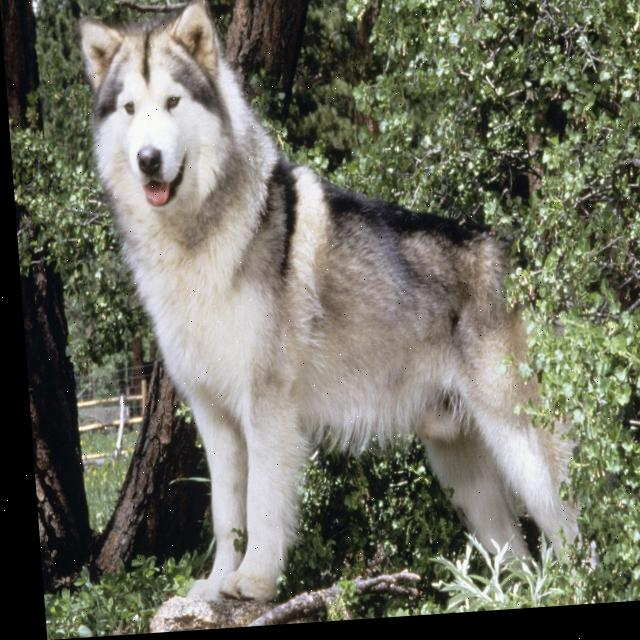ALASKAN_MALAMUTE: (61, 0, 593, 611)
